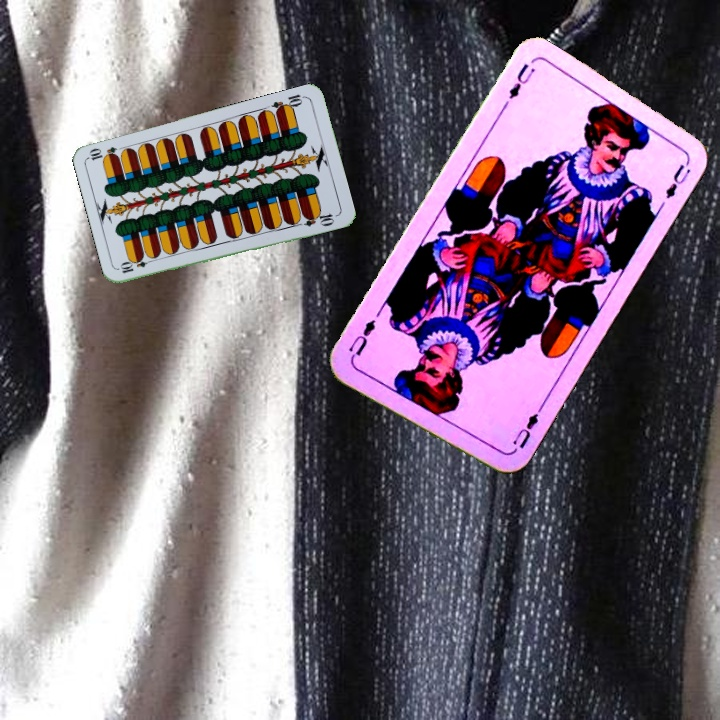E10: (268, 90, 308, 116), (116, 254, 157, 276)
EU: (508, 409, 541, 452), (505, 59, 538, 102)
